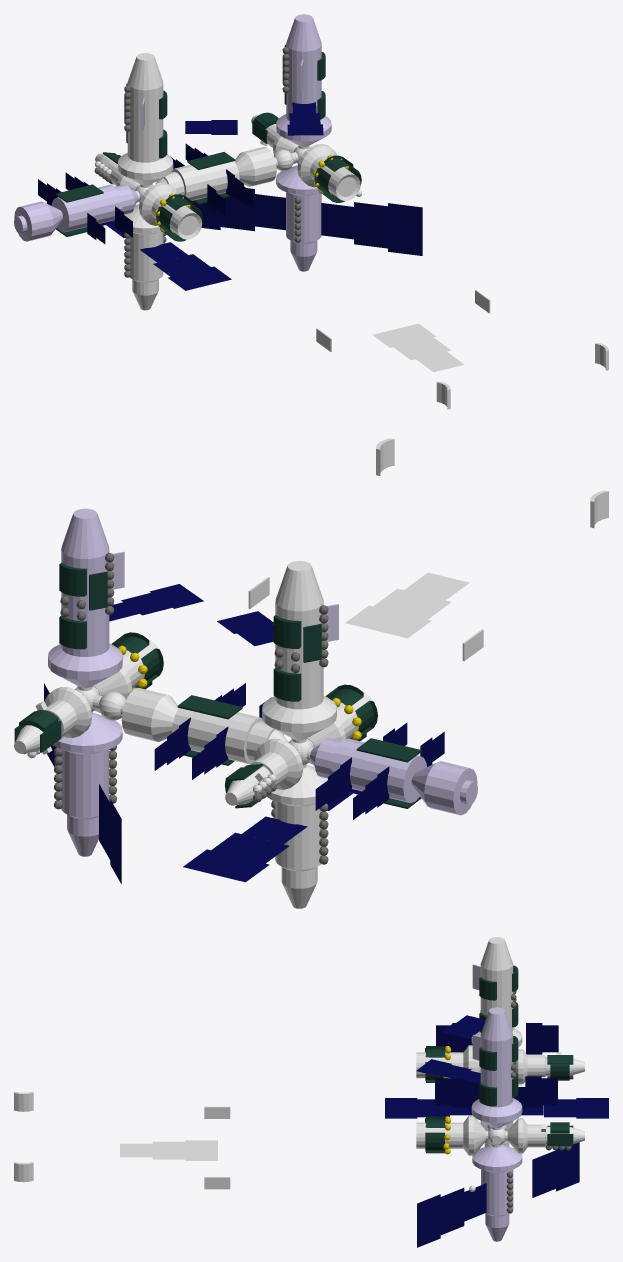
File: spacestationlevel8.fbx
The picture shows the model from 3 angles, top to bottom: view 1: azimuth 30°, elevation 25°; view 2: azimuth 150°, elevation 25°; view 3: azimuth 270°, elevation 25°; orthographic projection. The views are drawn at different scales.
Parts seen in each view (by area): view 1: Pedaço da estação básico, Painel solar.010, Modulo principal.001, Pedaço da estação básico.001, Modulo principal, Pedaço da estação básico.007, Painel solar.009, Pedaço da estação básico.2, Painel solar, Painel solar.005, Pedaço da estação básico.005, Pedaço da estação básico.4 (+9 smaller); view 2: Modulo principal.001, Pedaço da estação básico, Pedaço da estação básico.001, Modulo principal, Pedaço da estação básico.007, Pedaço da estação básico.2, Painel solar, Painel solar.003, Pedaço da estação básico.3, Pedaço da estação básico.006, Painel solar.008, painel redondo.002 (+16 smaller); view 3: Pedaço da estação básico.001, Pedaço da estação básico.007, Painel solar.010, Pedaço da estação básico, Painel solar.009, Painel solar, Painel solar.004, Pedaço da estação básico.005, Painel solar.003, Painel solar.005, Pedaço da estação básico.006, Painel solar.006 (+8 smaller).
Part boxes in pixels (x1,y1,x2,y2): Pedaço da estação básico: [118, 53, 173, 185]; Painel solar.010: [321, 202, 422, 255]; Modulo principal.001: [14, 184, 138, 241]; Pedaço da estação básico.001: [276, 14, 331, 146]; Modulo principal: [155, 146, 276, 200]; Pedaço da estação básico.007: [276, 165, 321, 271]; Painel solar.009: [192, 188, 285, 231]; Pedaço da estação básico.2: [124, 204, 163, 310]; Painel solar: [372, 323, 464, 372]; Painel solar.005: [140, 242, 231, 290]; Pedaço da estação básico.005: [297, 144, 360, 200]; Pedaço da estação básico.4: [139, 182, 202, 239]; Modulo principal.001: [310, 738, 477, 815]; Pedaço da estação básico: [262, 561, 336, 740]; Pedaço da estação básico.001: [48, 508, 122, 687]; Modulo principal: [121, 687, 287, 764]; Pedaço da estação básico.007: [53, 712, 122, 856]; Pedaço da estação básico.2: [266, 765, 327, 908]; Painel solar: [345, 572, 469, 638]; Painel solar.003: [183, 816, 307, 882]; Pedaço da estação básico.3: [225, 738, 303, 805]; Pedaço da estação básico.006: [14, 687, 92, 753]; Painel solar.008: [109, 584, 203, 621]; painel redondo.002: [273, 615, 301, 701]; Pedaço da estação básico.001: [471, 1007, 522, 1128]; Pedaço da estação básico.007: [472, 1144, 522, 1241]; Painel solar.010: [417, 1183, 486, 1247]; Pedaço da estação básico: [471, 937, 522, 1047]; Painel solar.009: [532, 1142, 579, 1197]; Painel solar: [120, 1140, 217, 1160]; Painel solar.004: [435, 1087, 557, 1108]; Pedaço da estação básico.005: [416, 1115, 485, 1155]; Painel solar.003: [521, 1098, 608, 1118]; Painel solar.005: [385, 1098, 472, 1118]; Pedaço da estação básico.006: [507, 1118, 584, 1153]; Painel solar.006: [436, 1035, 558, 1054].
Bounding box in the file's own units: 11607 × 7740 × 18240.
